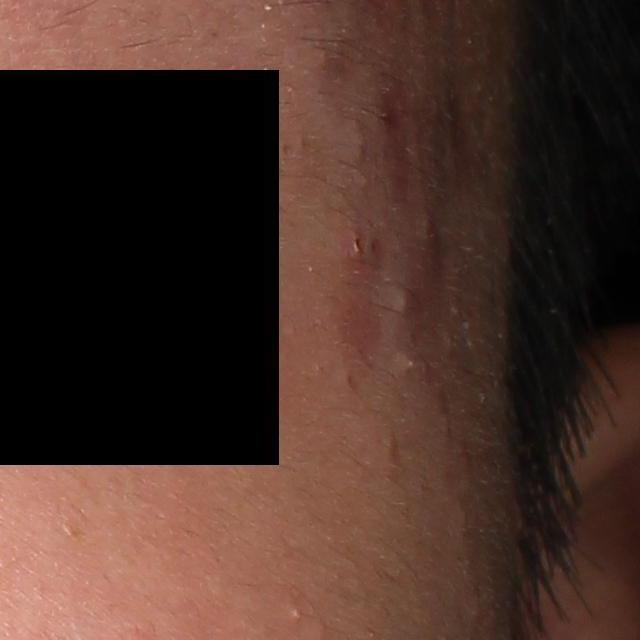comedo: (390, 283, 414, 314), (287, 603, 306, 624)
